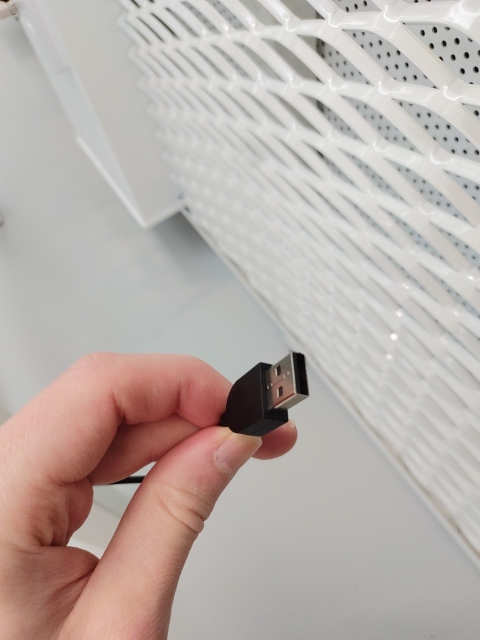USB: (266, 351, 310, 408)
